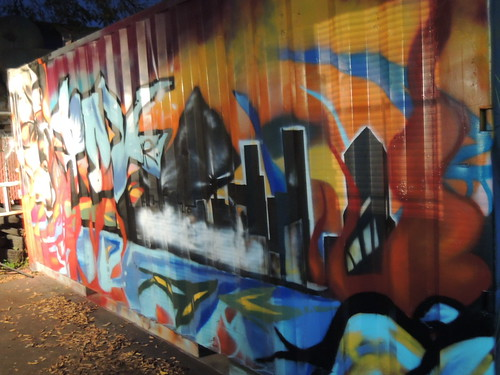graffiti: (8, 1, 500, 375)
